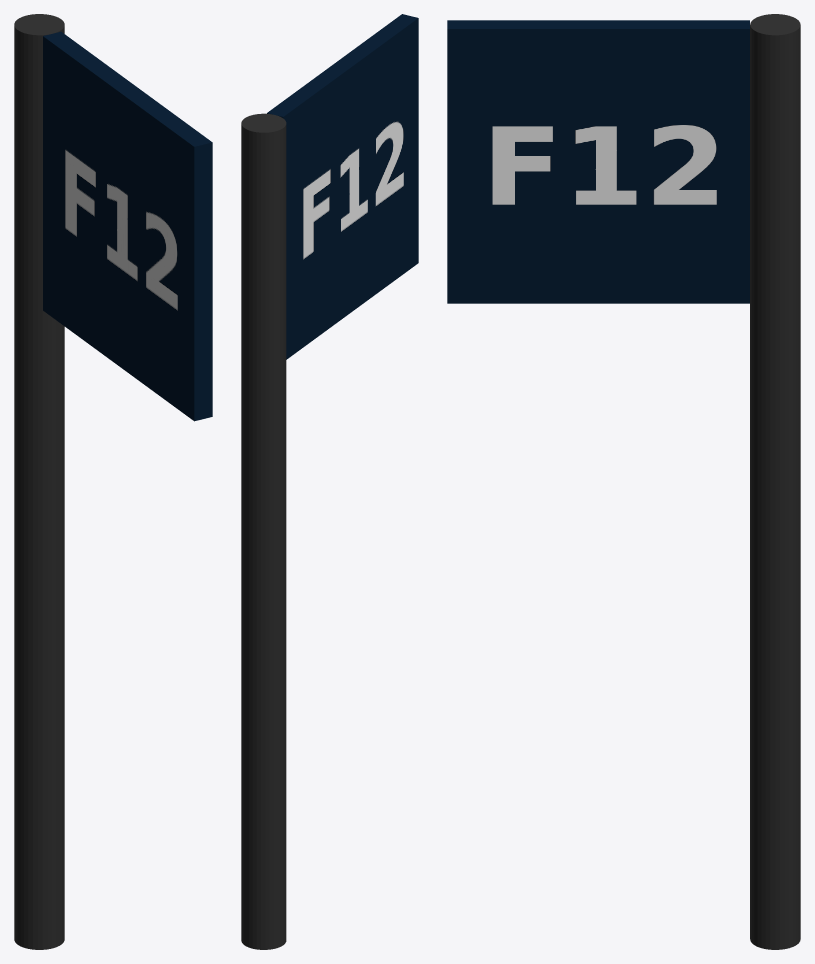
File: start_flag.dae
3 renders of one model, left to right at view 1: azimuth 30°, elevation 25°; view 2: azimuth 150°, elevation 25°; view 3: azimuth 270°, elevation 25°, orthographic. The views are drawn at different scales.
Parts seen in each view (by area): view 1: flag; view 2: flag; view 3: flag.
Boxes of the visible parts, <box> form: flag: <box>14,14,212,949</box>; flag: <box>241,14,418,949</box>; flag: <box>447,14,800,949</box>.
Bounding box in the file's own units: 0.1 × 0.7 × 2.
2 materials, 1 textured.
